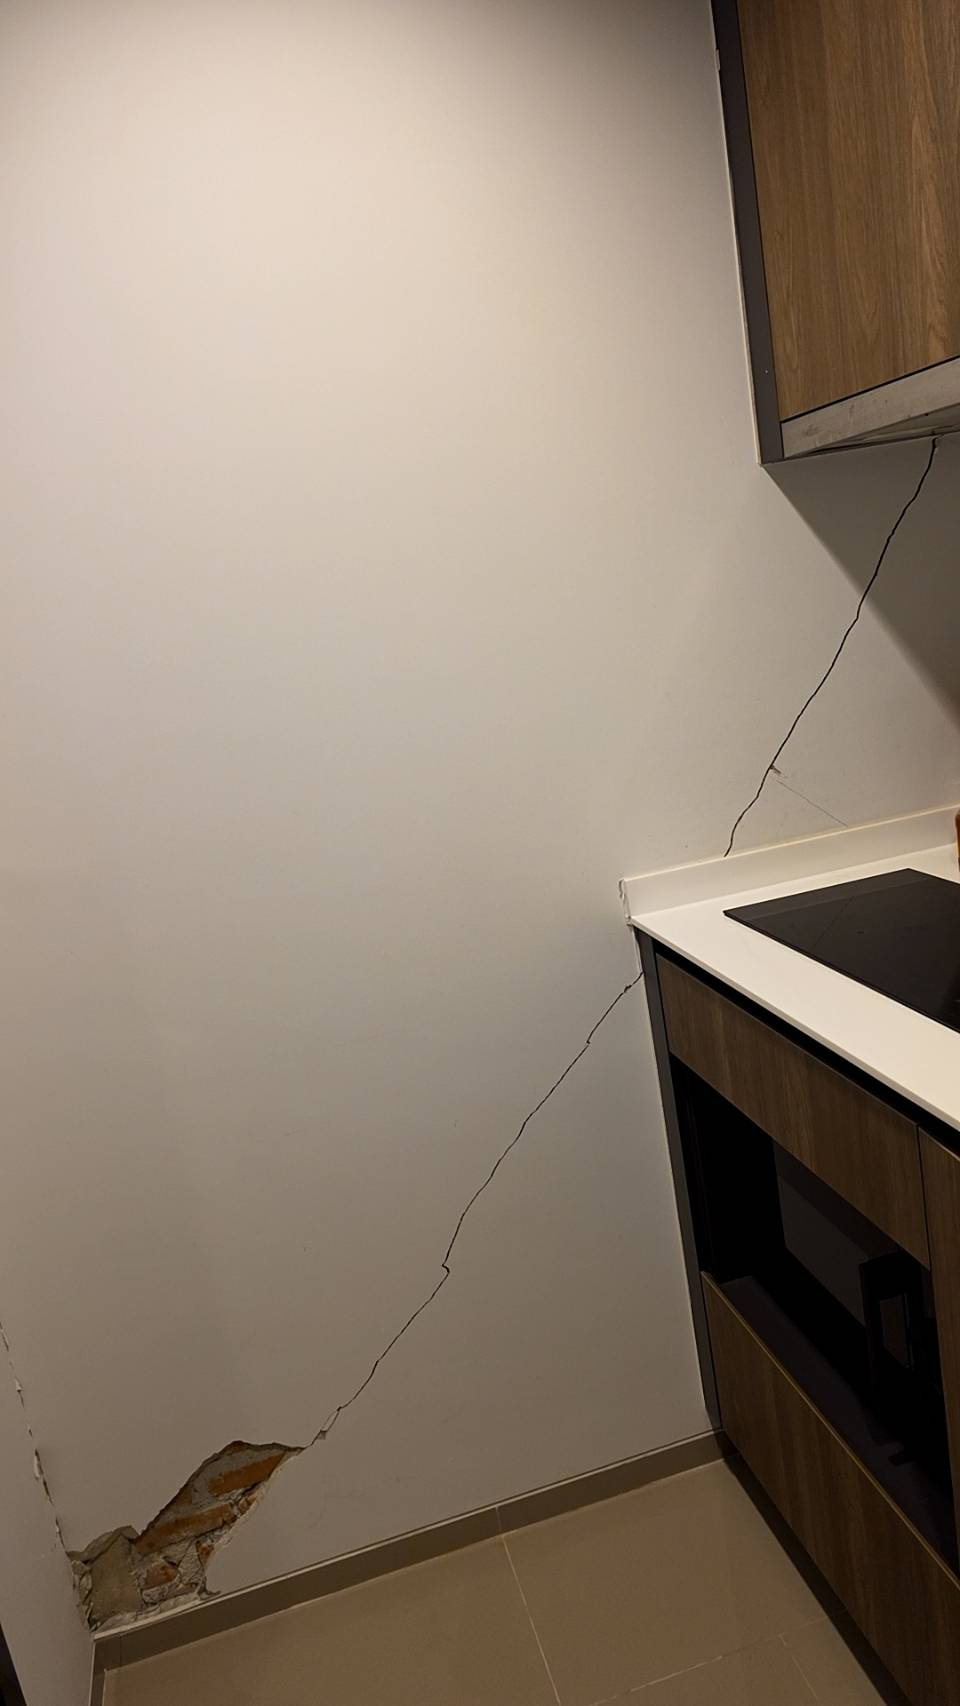High: (23, 435, 960, 1670)
